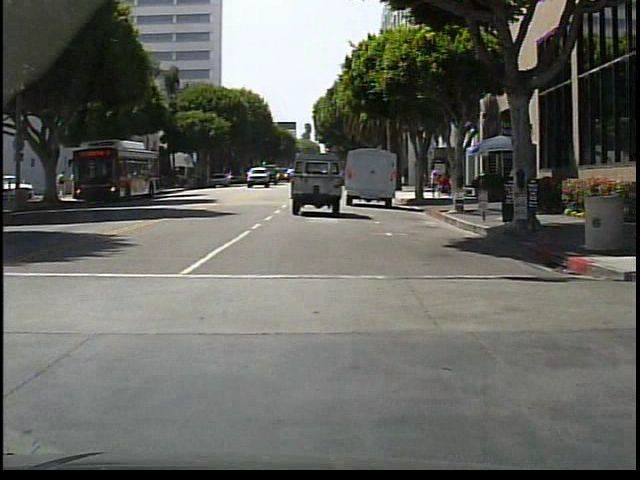person: (72, 169, 81, 199), (429, 171, 439, 197), (421, 167, 429, 199), (58, 171, 67, 199)
